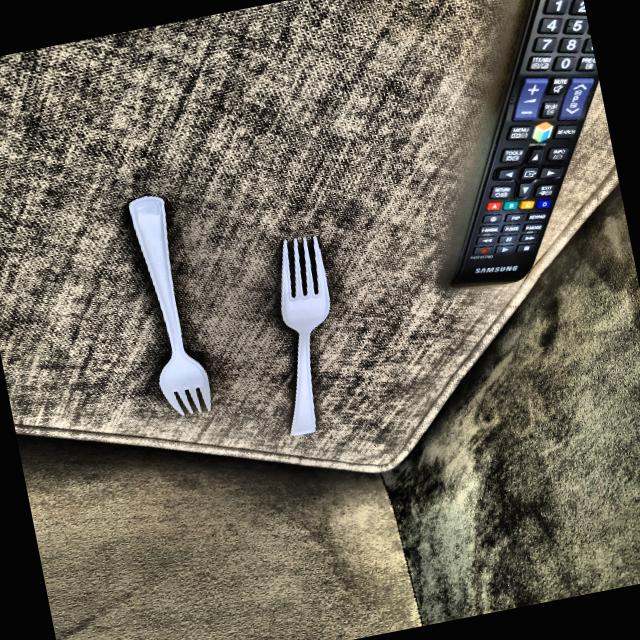plastic utensil: (118, 188, 221, 422), (247, 232, 360, 442)
